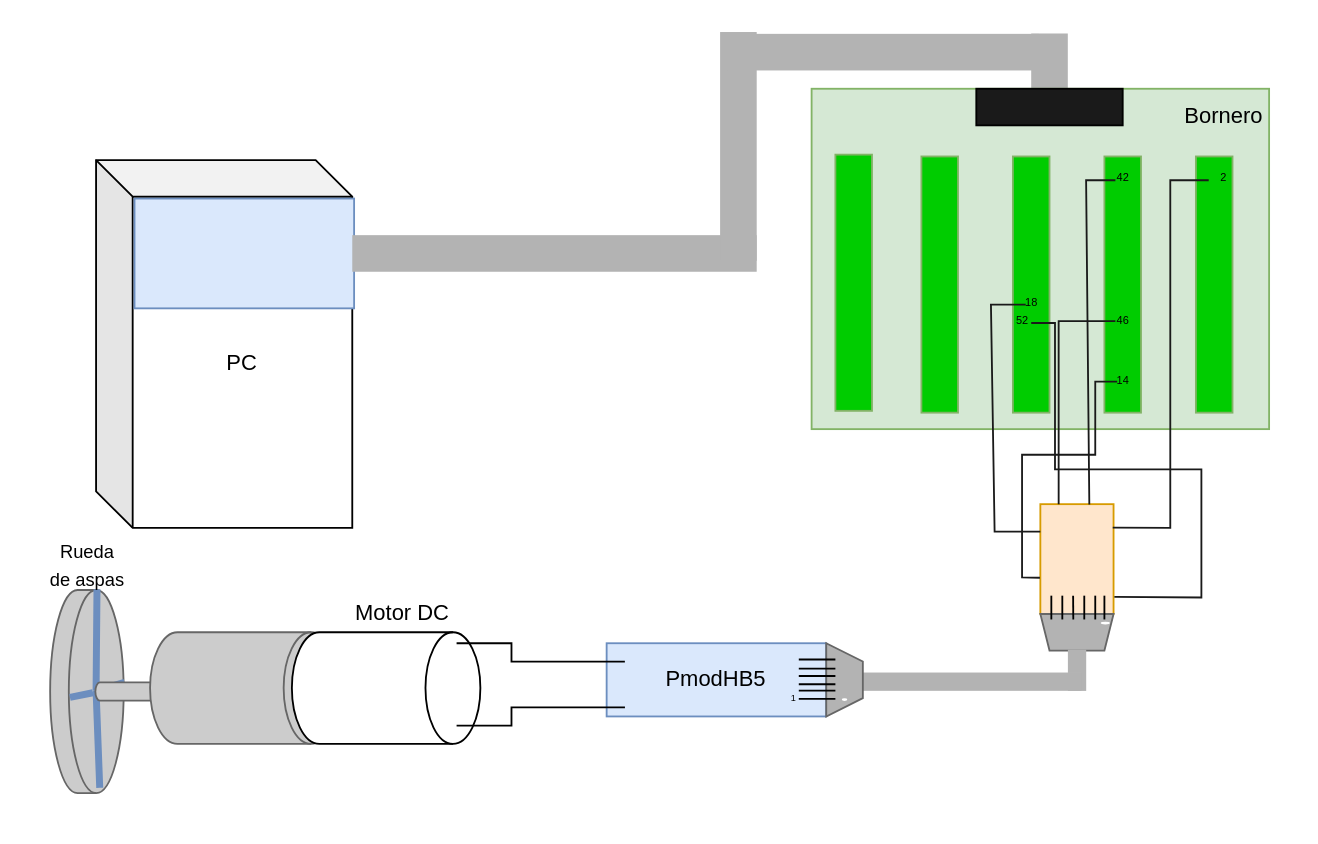
Some shapes in this 1318 by 844 pixel diagram are drawn without their labels. The box of each missing label's shape, as (x1, y1, x2, y2) in pixels:
Multiplicadora x53: (148, 630, 339, 744)
PCI 6221: (133, 197, 354, 308)
